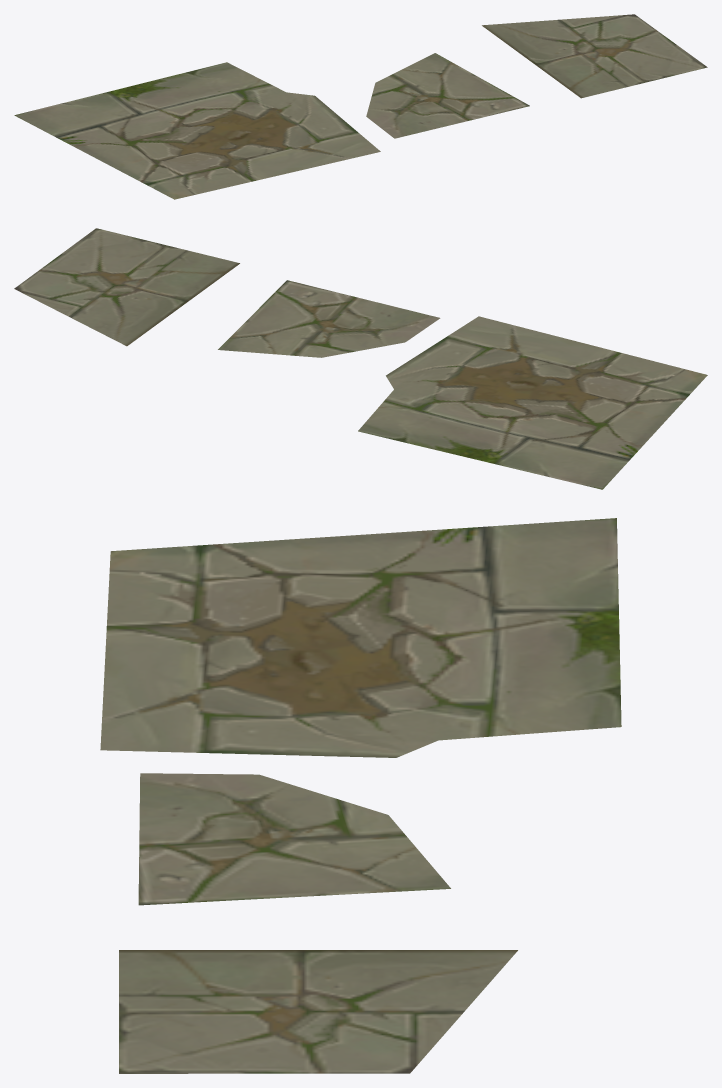
The model's file is ZC_suizhaun01.FBX.
3 views of the same model, one above another, from view 1: azimuth 30°, elevation 25°; view 2: azimuth 150°, elevation 25°; view 3: azimuth 270°, elevation 25° (orthographic). The views are drawn at different scales.
Visible parts, largest first — view 1: ZC_suizhaun01_001, ZC_suizhaun01_003, ZC_suizhaun01_002; view 2: ZC_suizhaun01_001, ZC_suizhaun01_003, ZC_suizhaun01_002; view 3: ZC_suizhaun01_001, ZC_suizhaun01_003, ZC_suizhaun01_002.
Boxes of the visible parts, x1,y1,x2,y2 form: ZC_suizhaun01_001: (14, 62, 380, 199); ZC_suizhaun01_003: (482, 14, 707, 98); ZC_suizhaun01_002: (366, 53, 529, 138); ZC_suizhaun01_001: (358, 316, 707, 489); ZC_suizhaun01_003: (14, 228, 239, 346); ZC_suizhaun01_002: (218, 280, 440, 357); ZC_suizhaun01_001: (100, 518, 621, 757); ZC_suizhaun01_003: (119, 950, 517, 1073); ZC_suizhaun01_002: (138, 773, 450, 905).
Size of the model in its own units: 1165 by 0.0151 by 462.
Materials: 2 (2 with a texture image).
